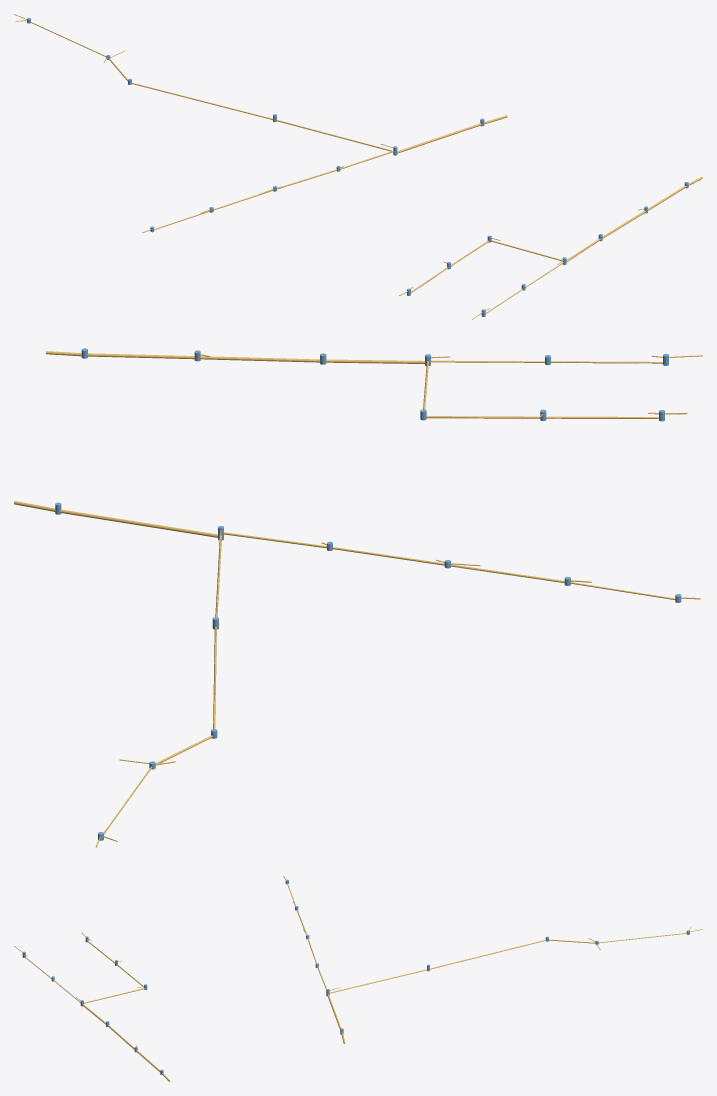
Rendered from 500125-CSSP001-780-XX-MD-ST-000215.glb.
The picture shows the model from 3 angles, top to bottom: view 1: azimuth 30°, elevation 25°; view 2: azimuth 150°, elevation 25°; view 3: azimuth 270°, elevation 25°; orthographic projection. The views are drawn at different scales.
Bounding box in the file's own units: 285 × 8.64 × 428.
